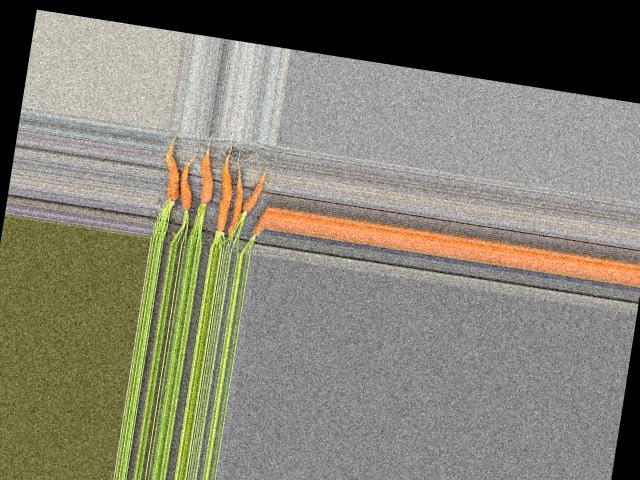carrot: (245, 213, 266, 247)
